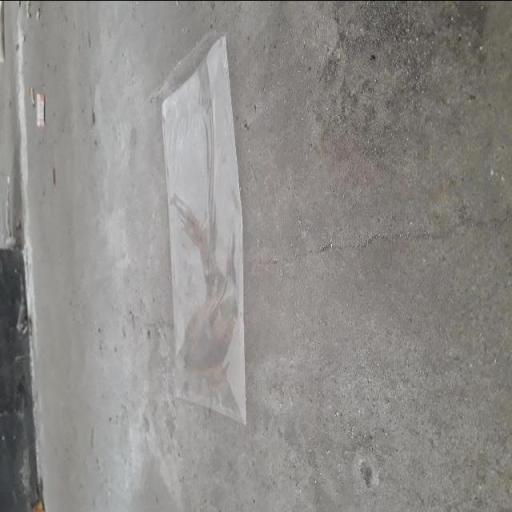plastic-bag: (156, 26, 248, 425)
